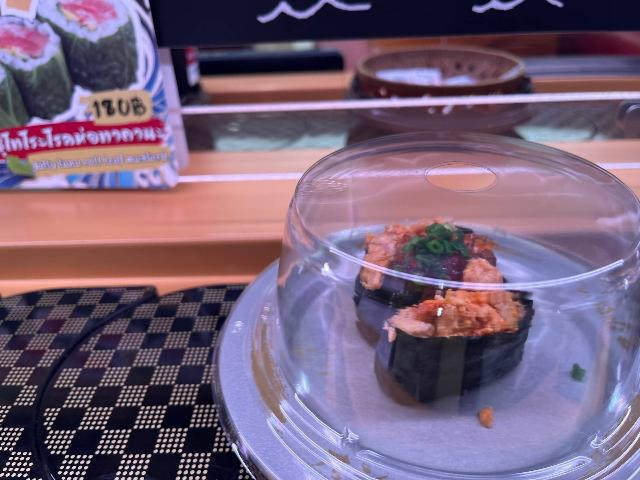janwhite: (269, 231, 634, 471)
